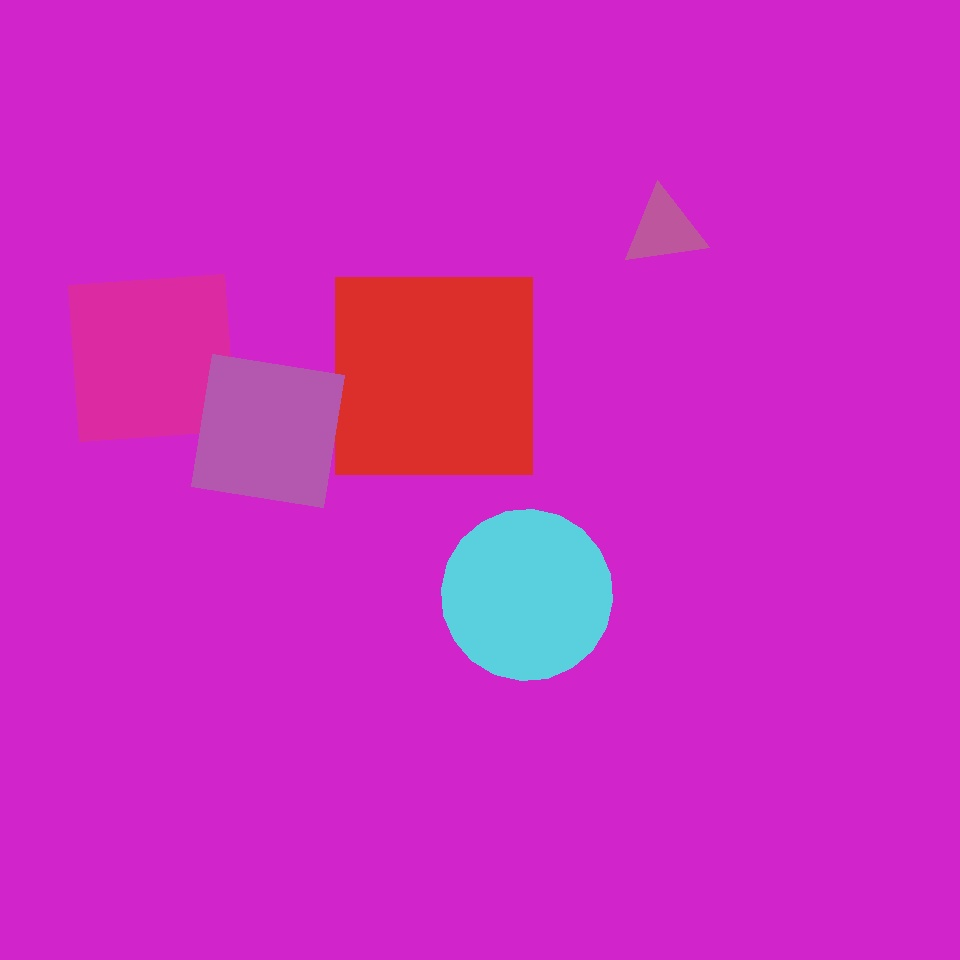circle: (591, 271, 922, 563), (252, 395, 543, 715), (622, 190, 706, 269)
square: (336, 278, 532, 474), (68, 274, 236, 442), (192, 354, 344, 508), (37, 381, 181, 525), (619, 583, 759, 723), (504, 526, 606, 629)
triangle: (442, 509, 612, 680)
